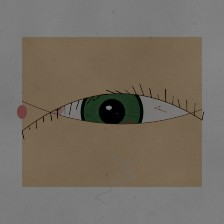foreign_body_visible: (109, 113, 149, 145)
